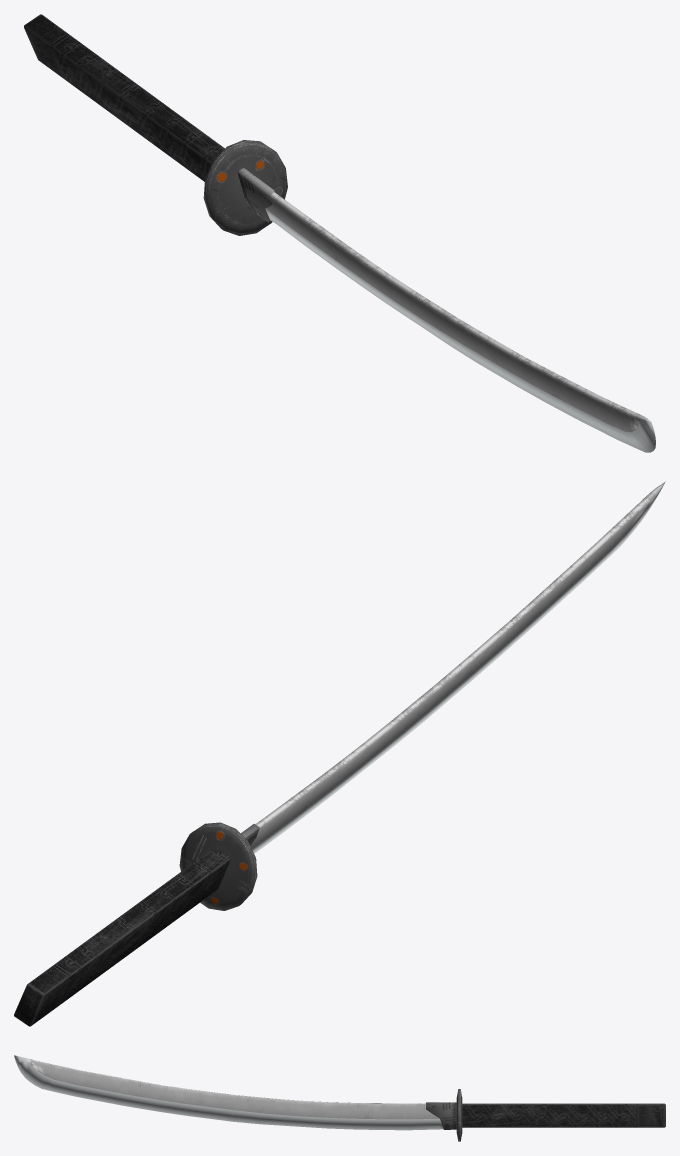
3 renders of one model, top to bottom at view 1: azimuth 30°, elevation 25°; view 2: azimuth 150°, elevation 25°; view 3: azimuth 270°, elevation 25°, orthographic. The views are drawn at different scales.
Parts seen in each view (by area): view 1: SU-Blade; view 2: SU-Blade; view 3: SU-Blade.
Part boxes in pixels (bbox=[...]): SU-Blade: bbox=[24, 14, 655, 452]; SU-Blade: bbox=[14, 481, 665, 1026]; SU-Blade: bbox=[14, 1055, 665, 1141].
Size of the model in its own units: 64.93 by 113 by 896.
5 materials, 5 textured.
